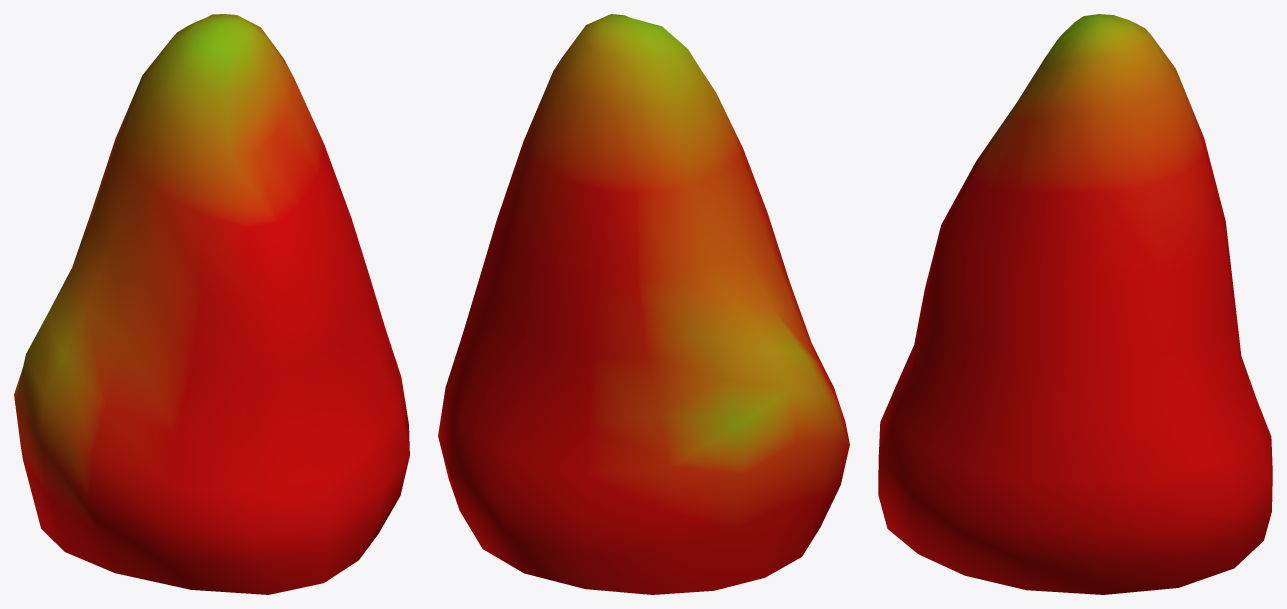
The model's file is PRM Spike Boulder.fbx.
3 renders of one model, left to right at view 1: azimuth 30°, elevation 25°; view 2: azimuth 150°, elevation 25°; view 3: azimuth 270°, elevation 25°, orthographic. The views are drawn at different scales.
Parts seen in each view (by area): view 1: Spike Boulder; view 2: Spike Boulder; view 3: Spike Boulder.
Part boxes in pixels (x1,y1,x2,y2): Spike Boulder: (14,14,409,594); Spike Boulder: (438,14,849,594); Spike Boulder: (878,14,1272,594).
Bounding box in the file's own units: 1034 × 1371 × 963.
